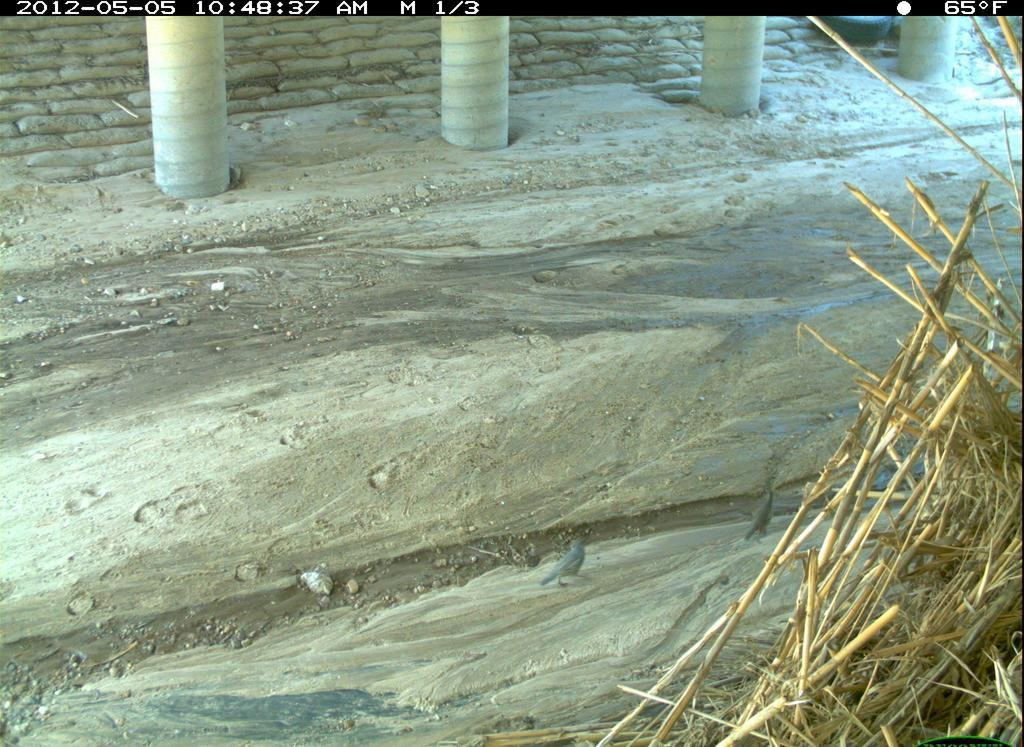bird: (535, 526, 603, 598), (736, 477, 794, 556)
